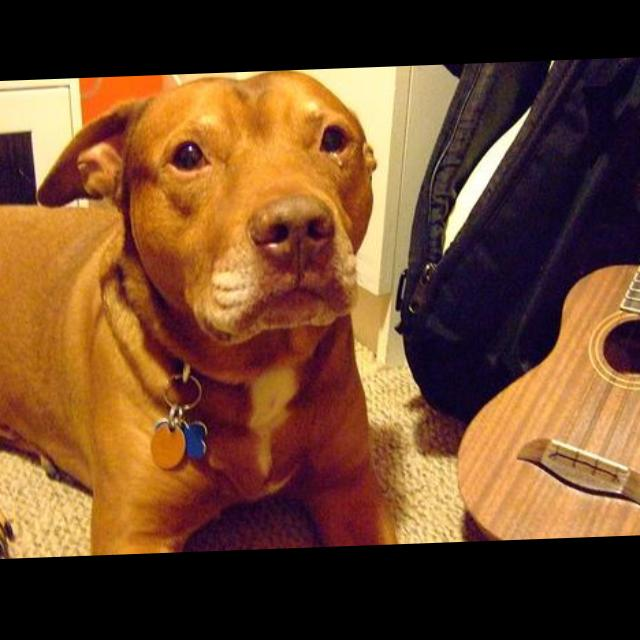amstaff: (2, 70, 401, 560)
